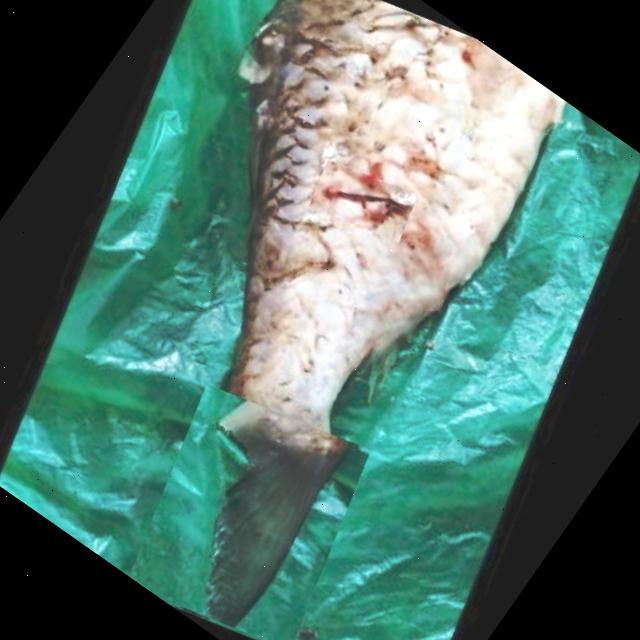Aeromonas Septicemia: (206, 0, 561, 627)
